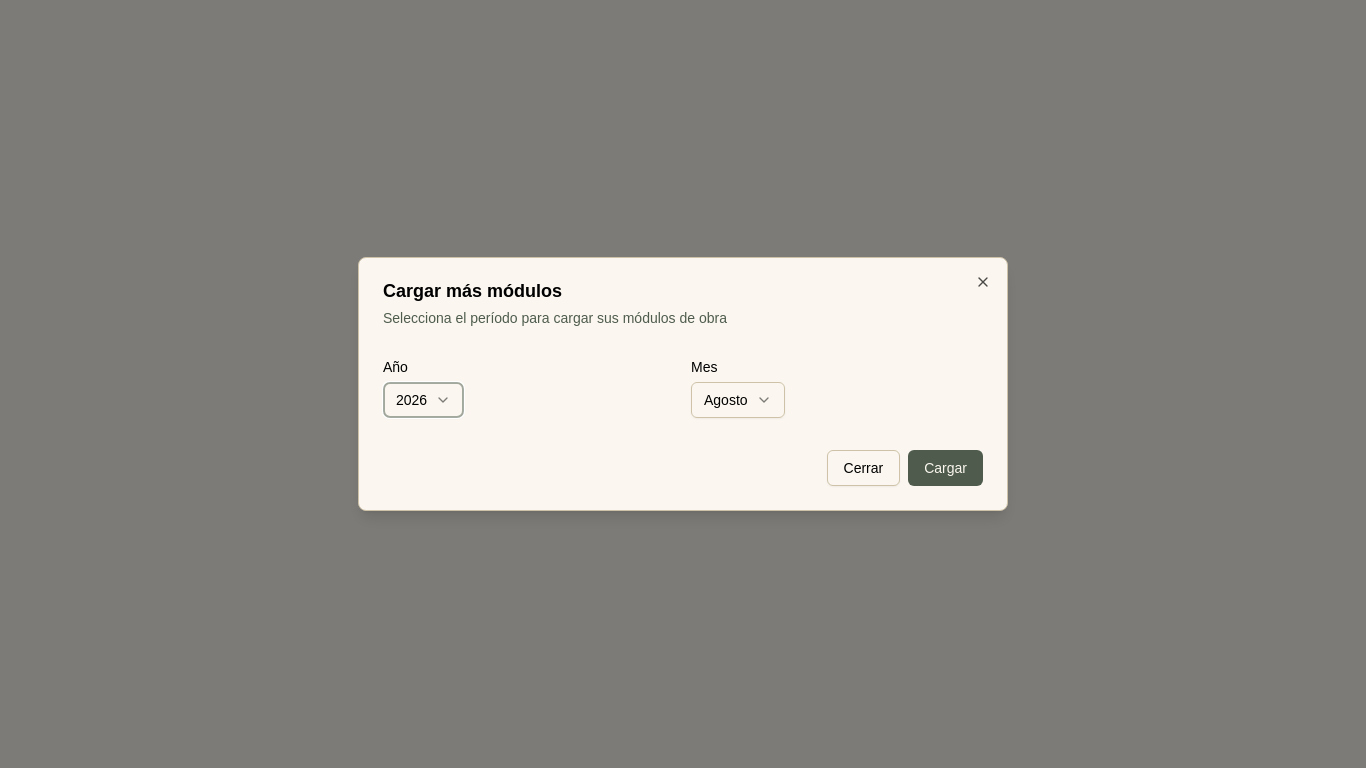
Test case: LoadMoreModulesModal › shows results with count and total amount after successful load
This screenshot has width=1366, height=768.
Click the button "Cargar": (946, 468) [908, 450, 983, 486]
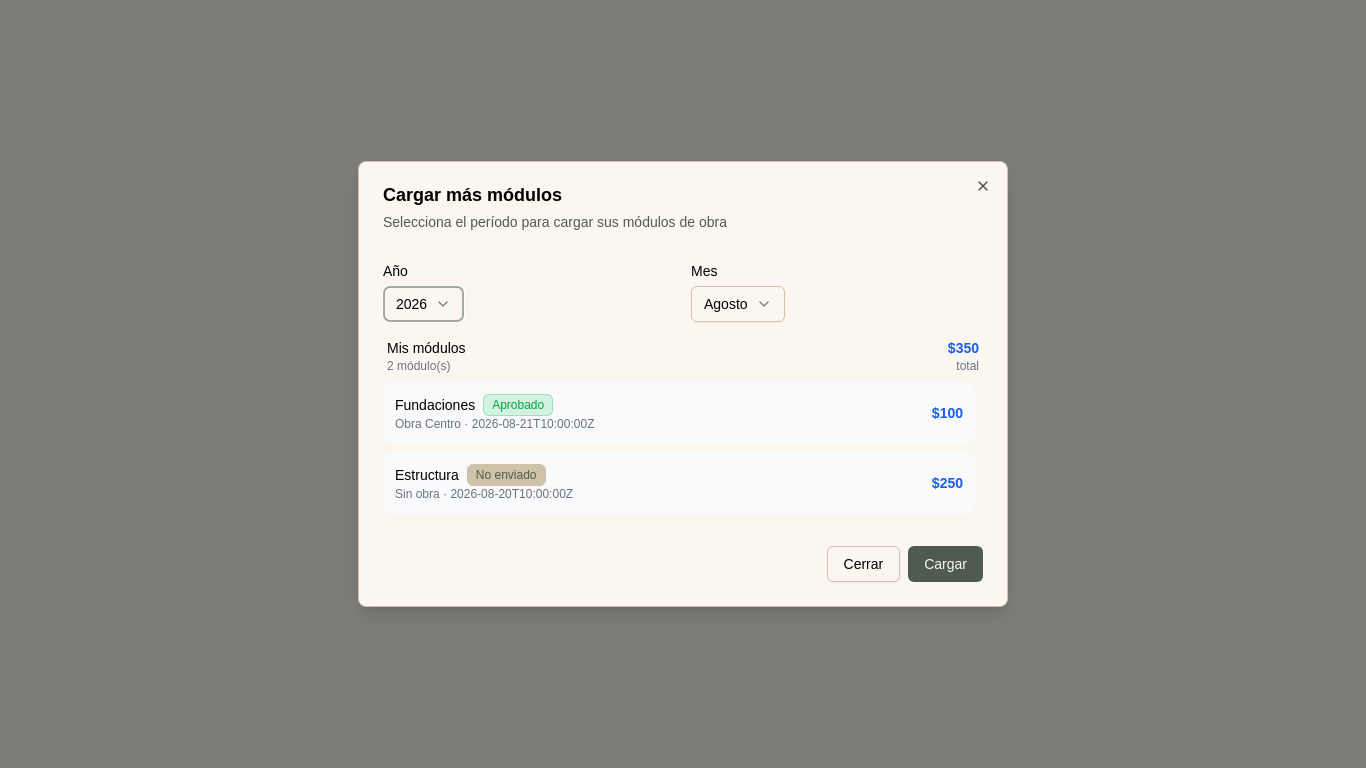
Check: the text "Mis módulos" is shown, box [387, 338, 466, 358]
Check: the text "2 módulo(s)" is shown, box [387, 359, 450, 373]
Check: the text "$350" is shown, box [948, 338, 979, 358]
